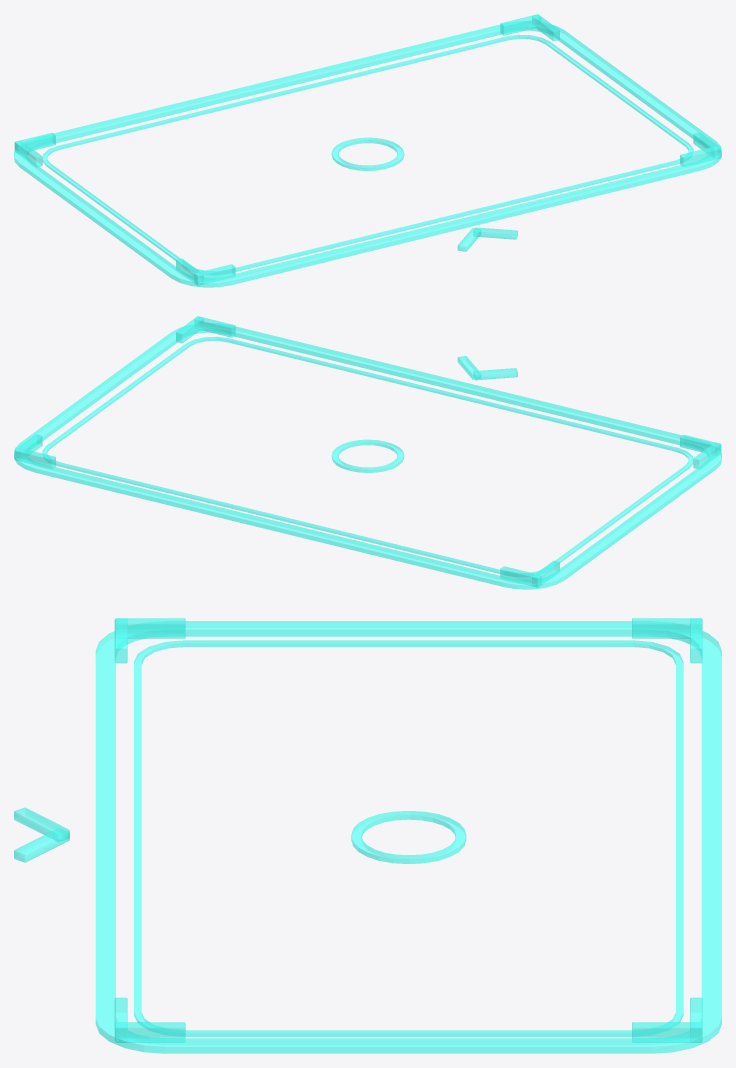
Rendered from PlacementGhostPreview_Floor.fbx.
The picture shows the model from 3 angles, top to bottom: view 1: azimuth 30°, elevation 25°; view 2: azimuth 150°, elevation 25°; view 3: azimuth 270°, elevation 25°; orthographic projection. The views are drawn at different scales.
Parts seen in each view (by area): view 1: PlacementGhostPreview_Floor_Mesh; view 2: PlacementGhostPreview_Floor_Mesh; view 3: PlacementGhostPreview_Floor_Mesh.
Boxes of the visible parts, left/top/right/bottom form: PlacementGhostPreview_Floor_Mesh: left=14, top=14, right=721, bottom=287; PlacementGhostPreview_Floor_Mesh: left=14, top=316, right=721, bottom=589; PlacementGhostPreview_Floor_Mesh: left=14, top=618, right=721, bottom=1053.
Size of the model in its own units: 78.8 by 1.6 by 55.39.
